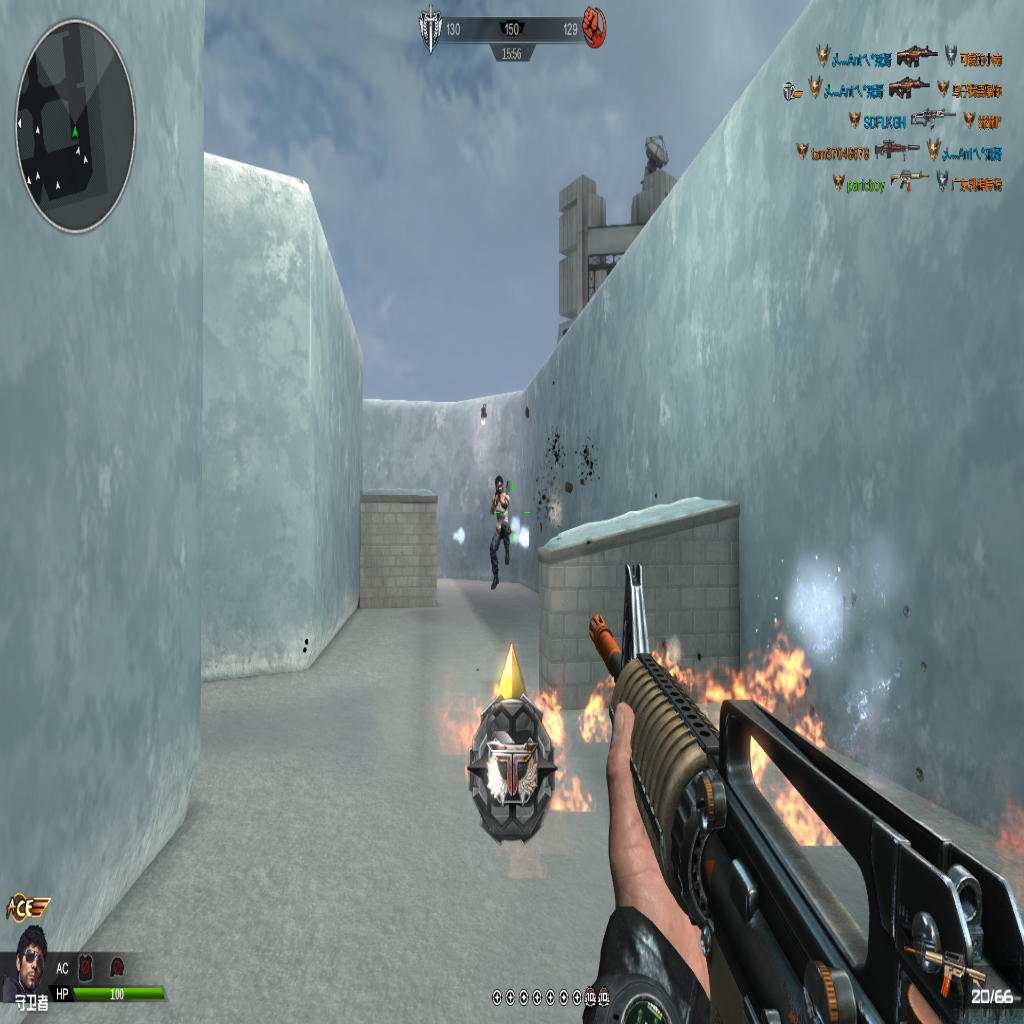tt: (489, 473, 511, 582)
